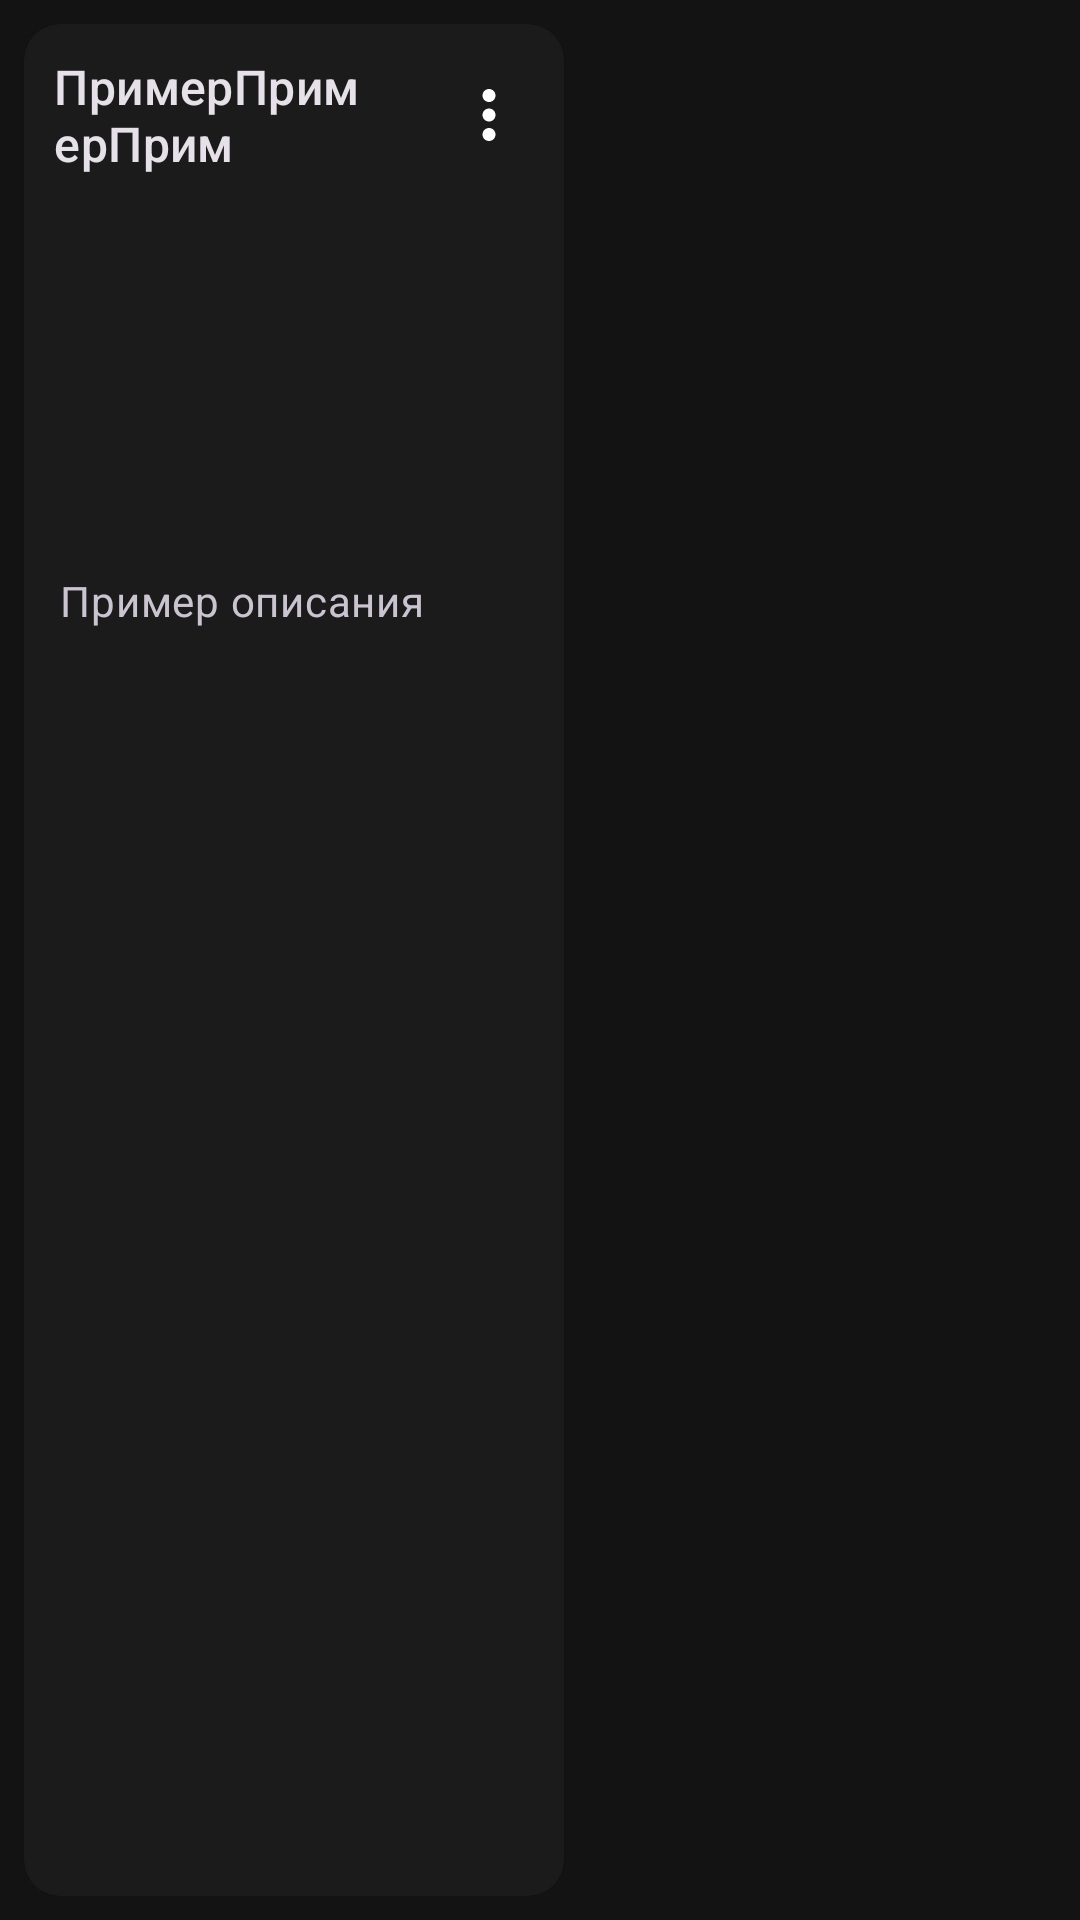

Named icons in this screenshot (1080px×1920px) and their bounding boxes, (x1, y1, x2, y2):
more vert: (482, 89, 496, 141)
